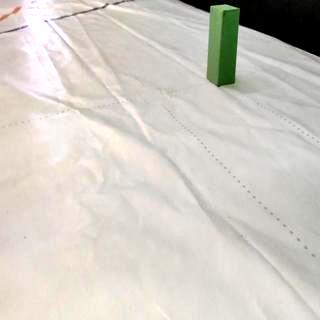greenbox: (208, 5, 238, 86)
